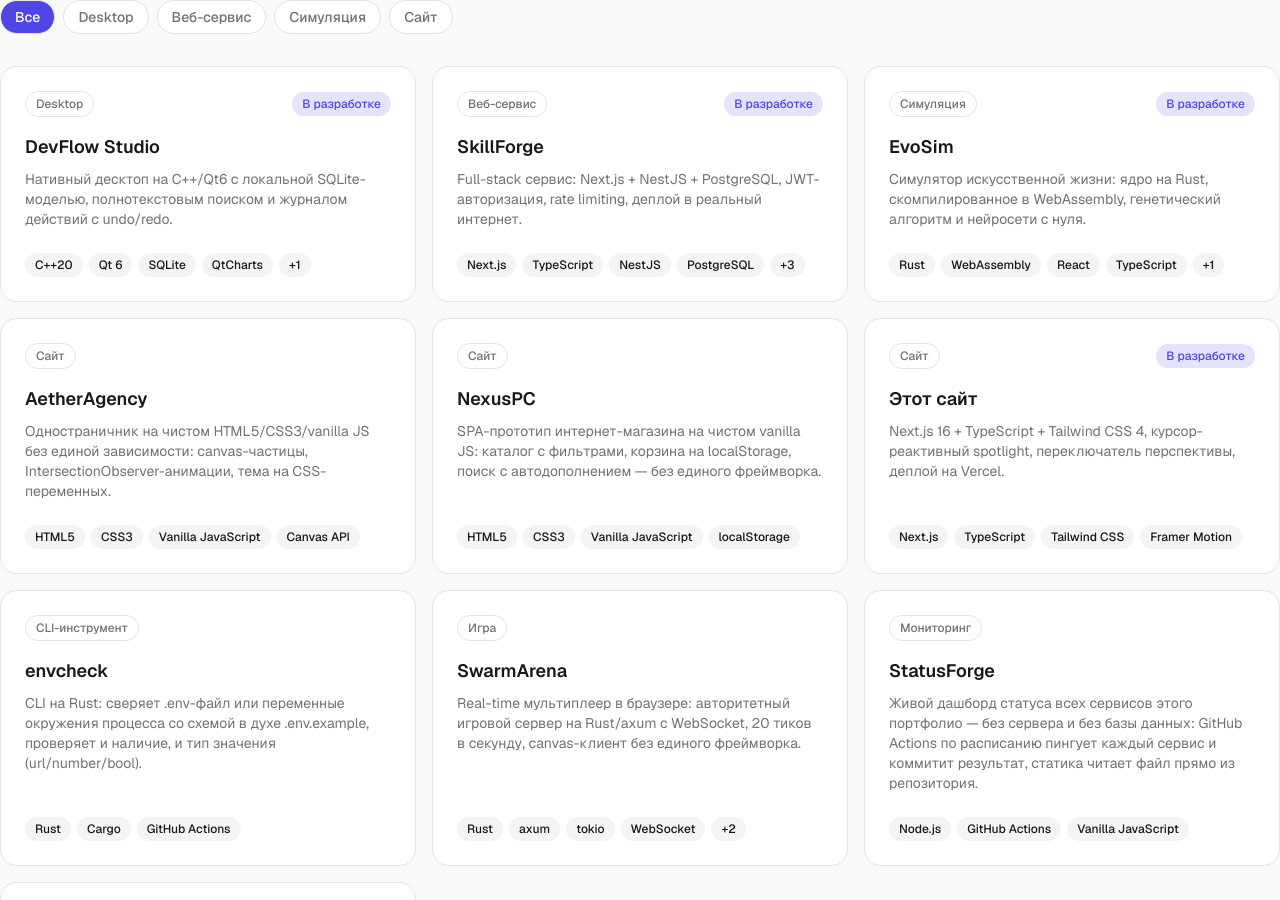
Test case: ProjectFilter › filters to only matching projects when a type chip is clicked
Click the button "Симуляция" at coordinates (328, 17), box [274,0,381,34]
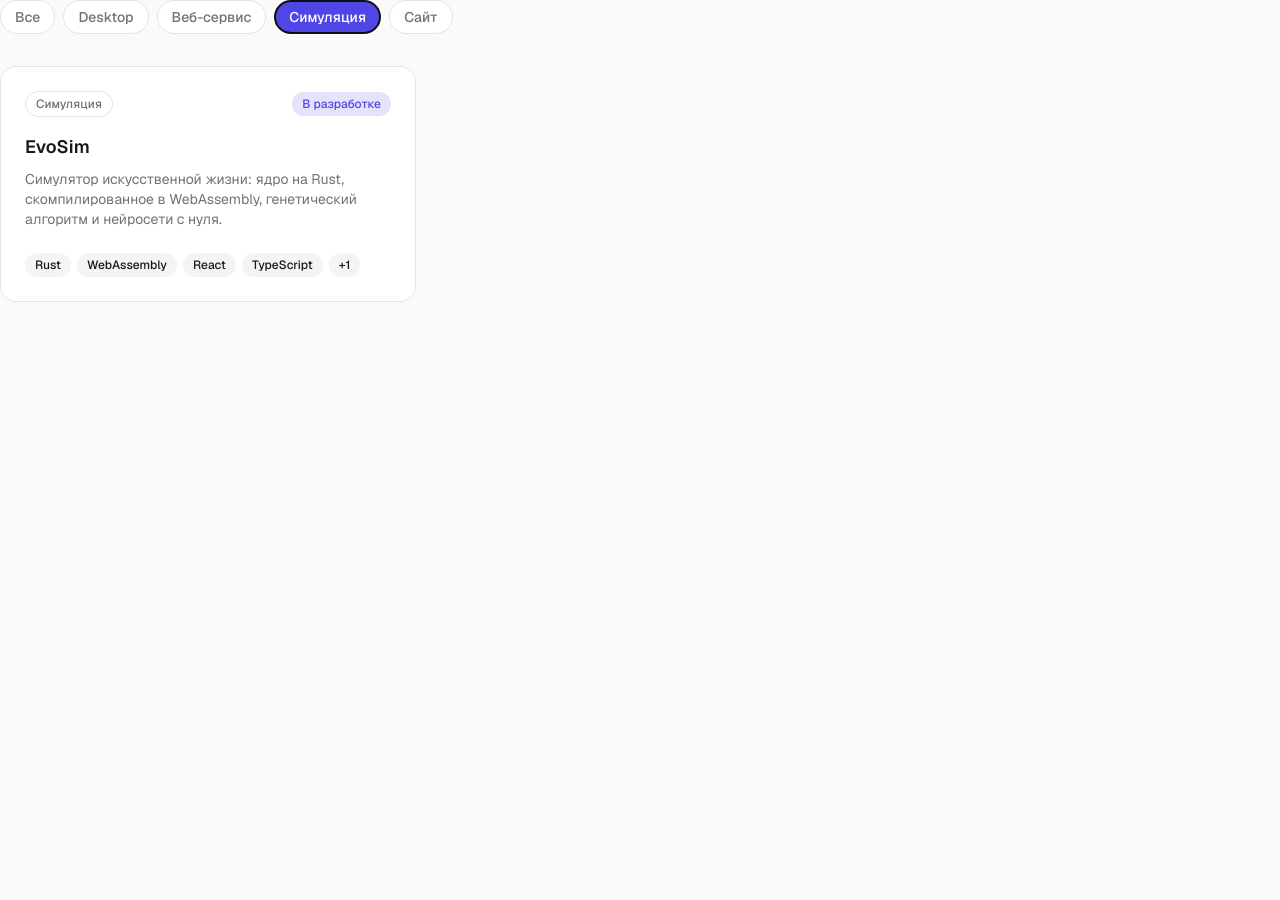
Expected: the heading "EvoSim" is shown, [25,135,90,158]
Expected: the link "DevFlow Studio" is gone
